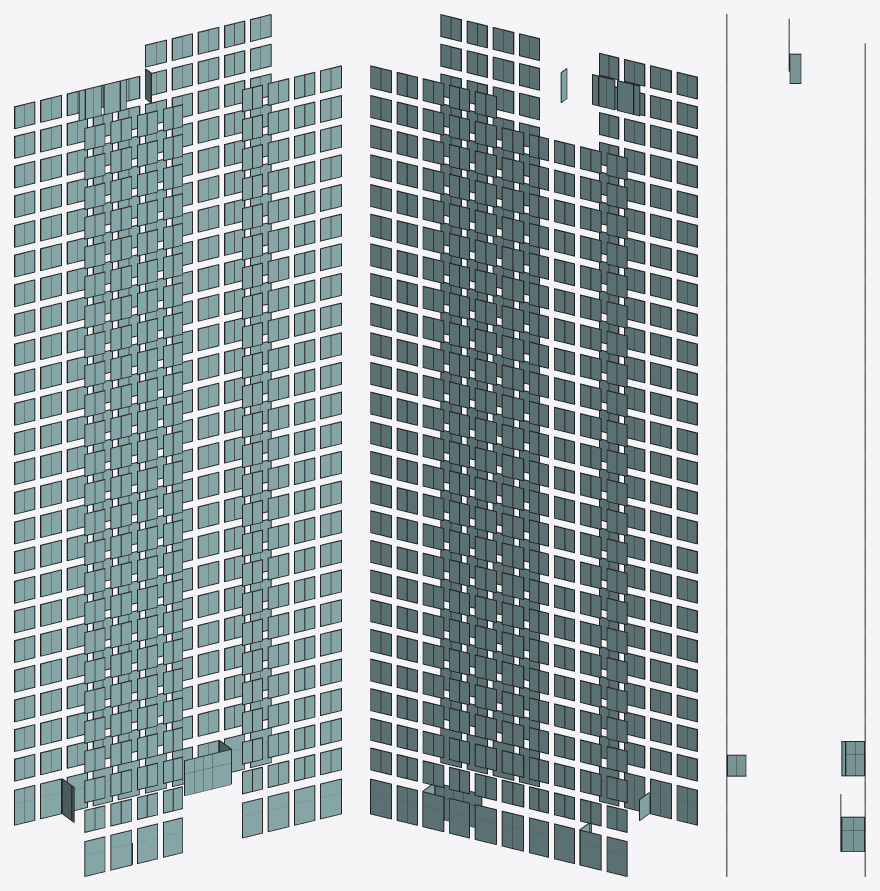
File: MSH_Ventanas-Torre-B.fbx
The picture shows the model from 3 angles, left to right: view 1: azimuth 30°, elevation 25°; view 2: azimuth 150°, elevation 25°; view 3: azimuth 270°, elevation 25°; orthographic projection.
Parts seen in each view (by area): view 1: MSH_Ventanas-Torre-B; view 2: MSH_Ventanas-Torre-B; view 3: MSH_Ventanas-Torre-B.
Part boxes in pixels (box(x1,y1,x2,y2)): MSH_Ventanas-Torre-B: box(14, 14, 341, 876); MSH_Ventanas-Torre-B: box(370, 14, 697, 876); MSH_Ventanas-Torre-B: box(726, 14, 865, 876).
Size of the model in its own units: 2994 by 8418 by 1425.
